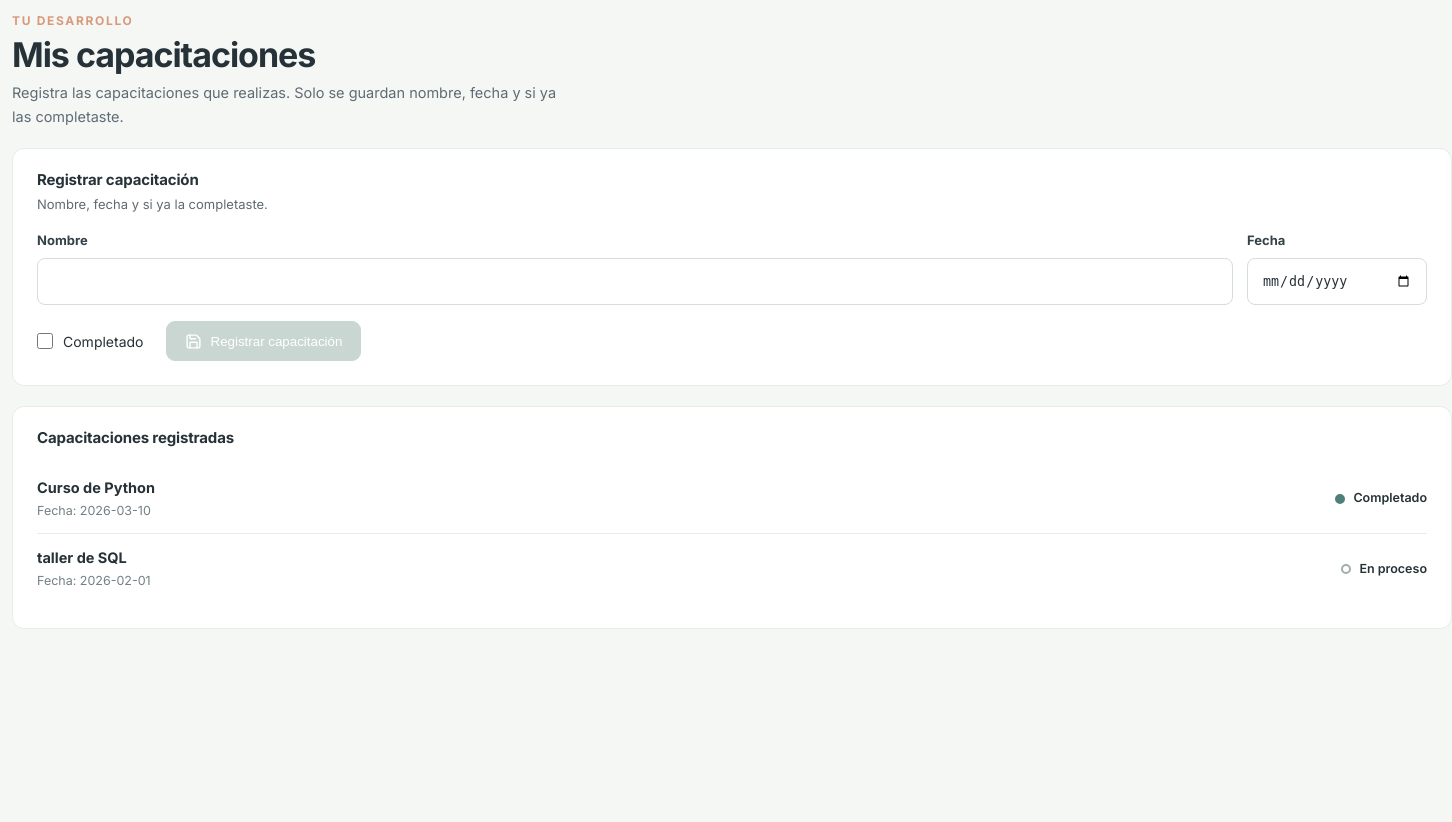
it: MisCapacitaciones — formulario de registro › confirma el éxito y recarga la lista con el patrón existente
Expected: the text "Curso de Python" is shown, [37,479,155,496]
Type "Curso de Python" into the field labelled "Nombre" at (635, 282), box [37,258,1233,305]
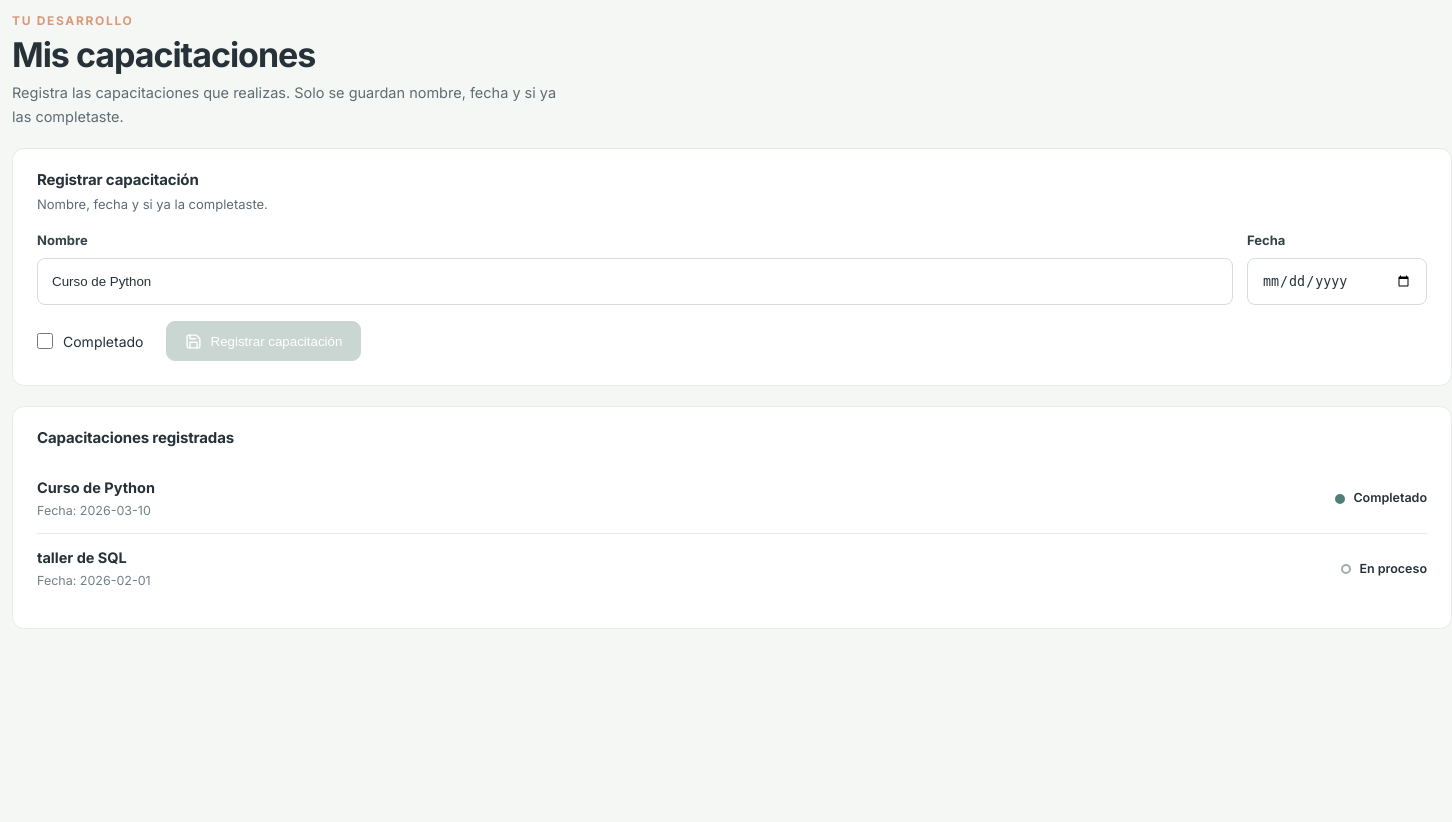
Type "2026-03-10" into the date field labelled "Fecha" at (1337, 282), box [1247,258,1427,305]
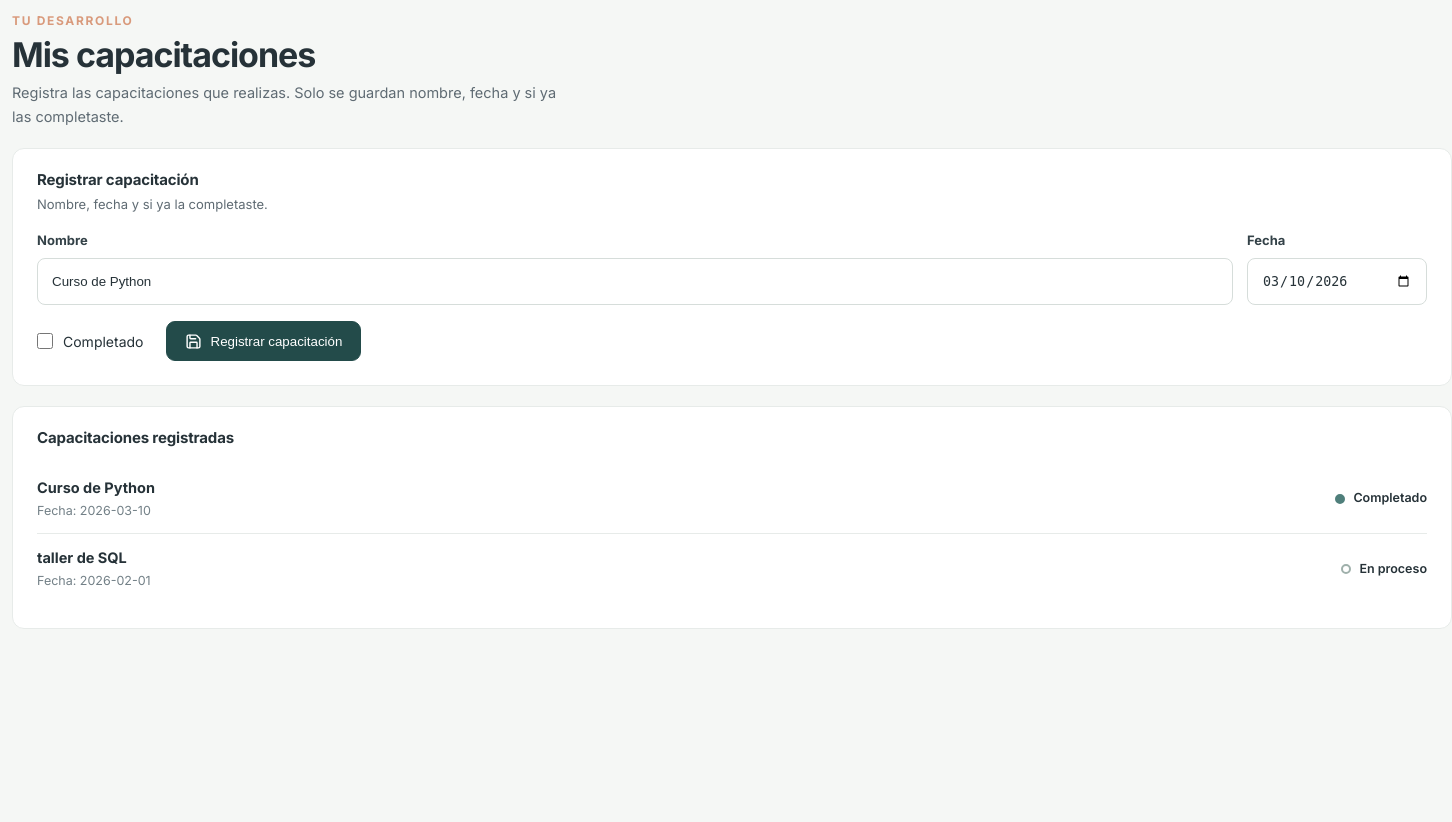
Click the button "Registrar capacitación" at (263, 341), box [166,321,361,361]
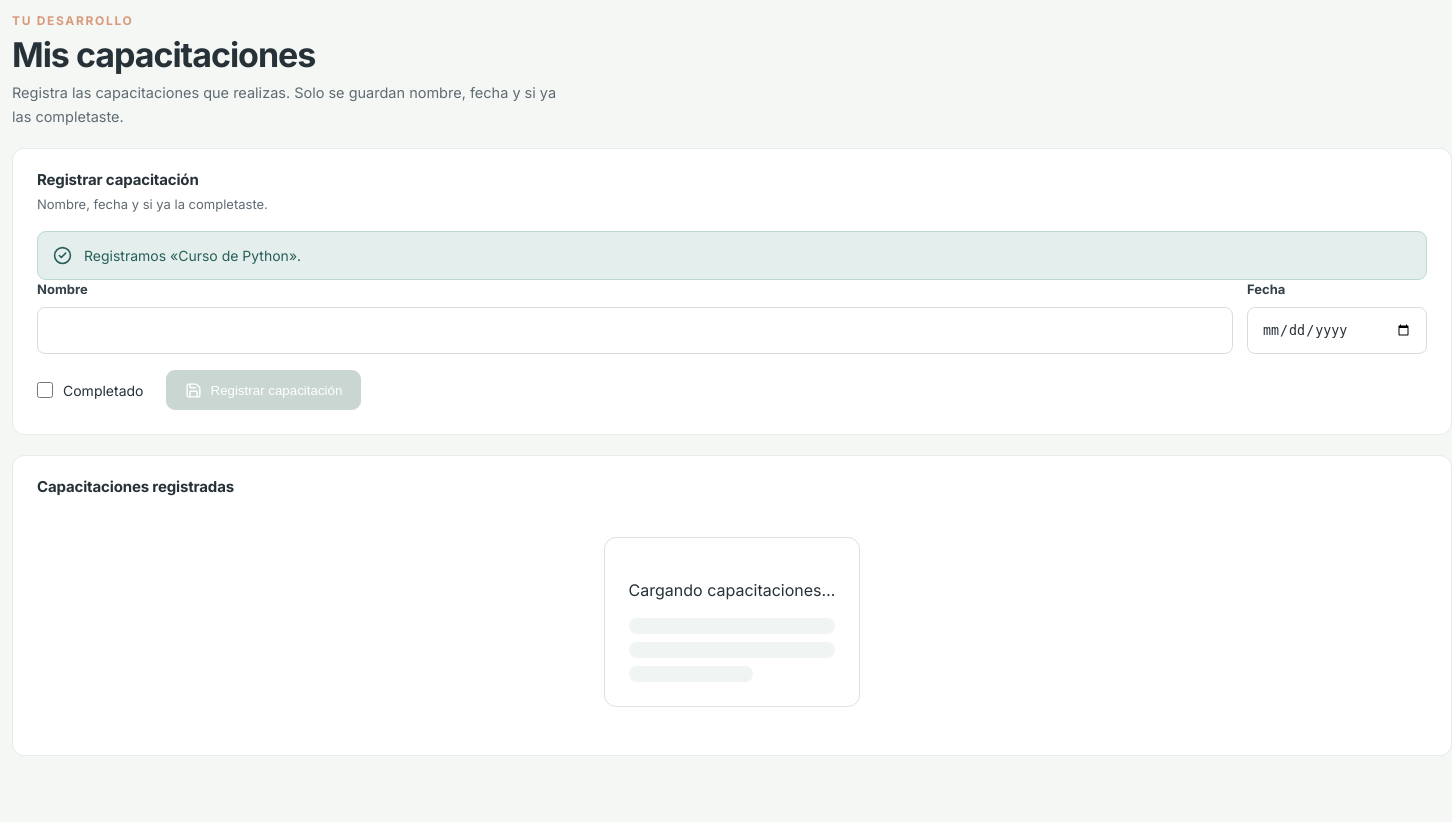
Expected: the text "Registramos «Curso de Python»." is shown, [84,245,301,266]
